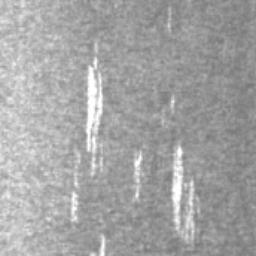White rust: (171, 138, 195, 249), (85, 40, 104, 178), (134, 150, 143, 200), (69, 191, 79, 223), (167, 6, 173, 37), (74, 149, 81, 171), (99, 233, 105, 256), (73, 174, 81, 190), (171, 94, 174, 113)
